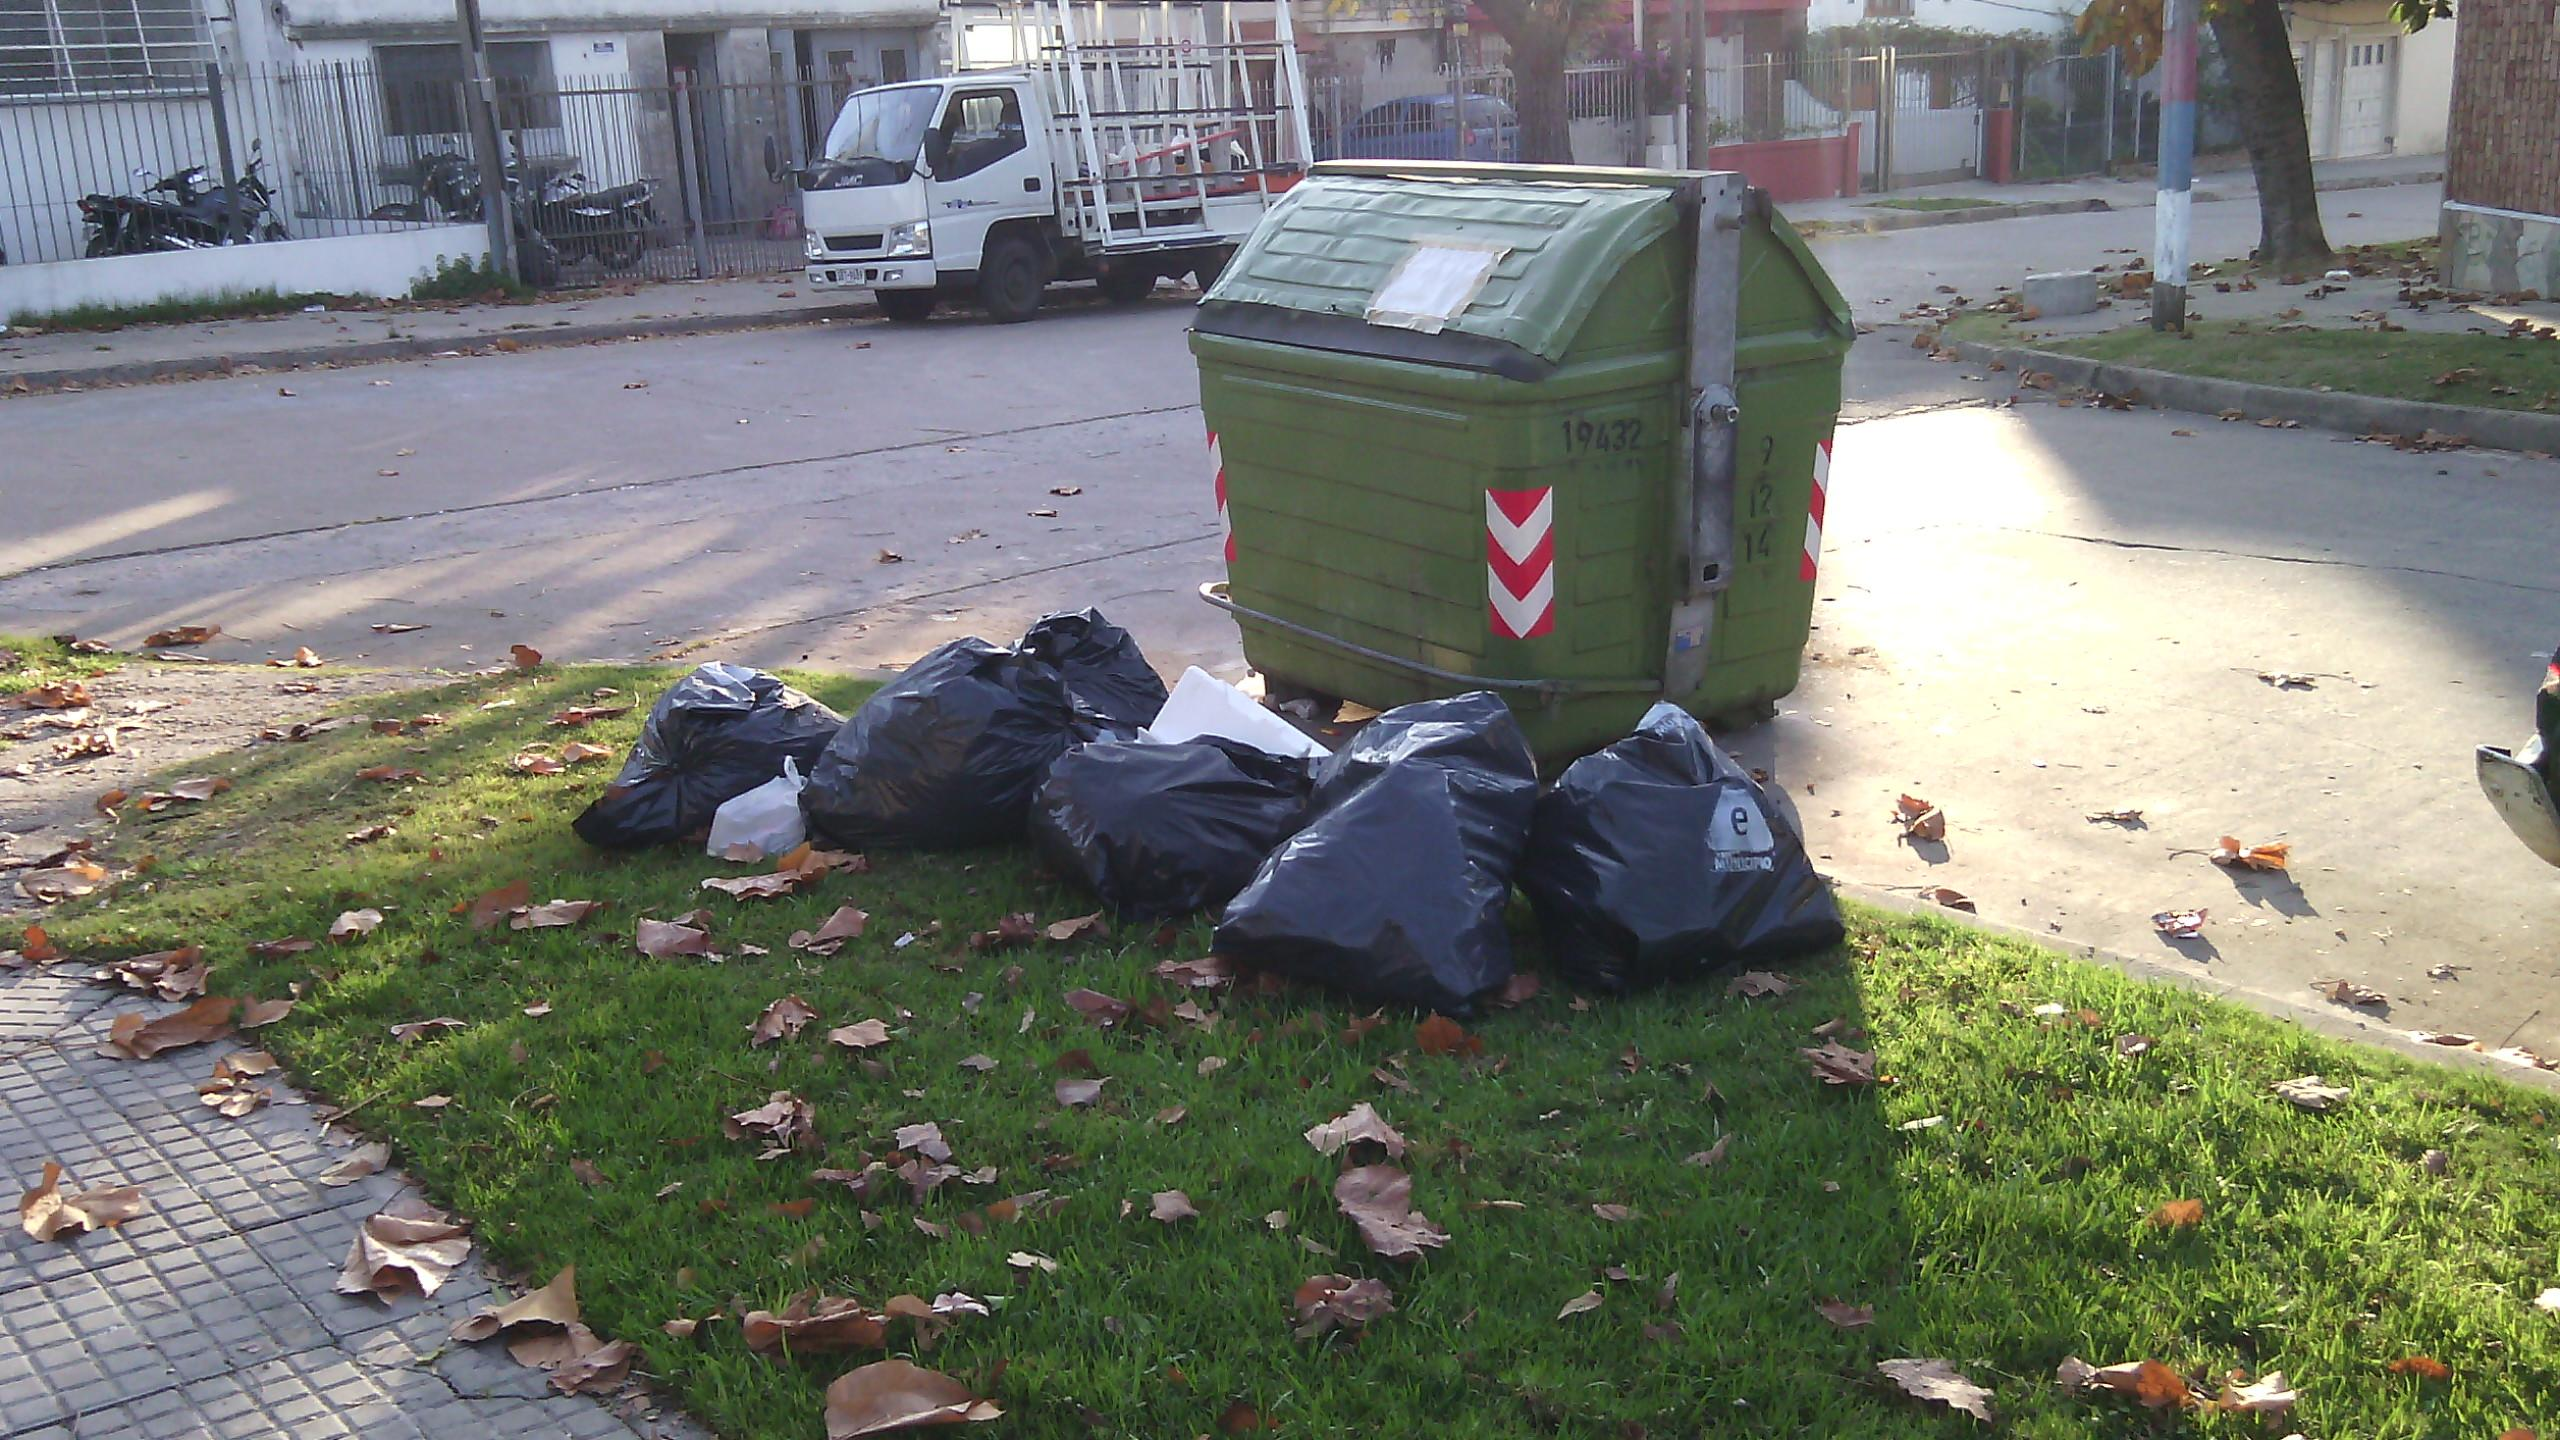Dechets: (571, 601, 1874, 1020), (1217, 691, 1540, 1016), (1544, 703, 1867, 1006), (800, 614, 1176, 856), (580, 658, 849, 877), (1143, 672, 1338, 754)
Trash: (1167, 146, 1874, 753)
